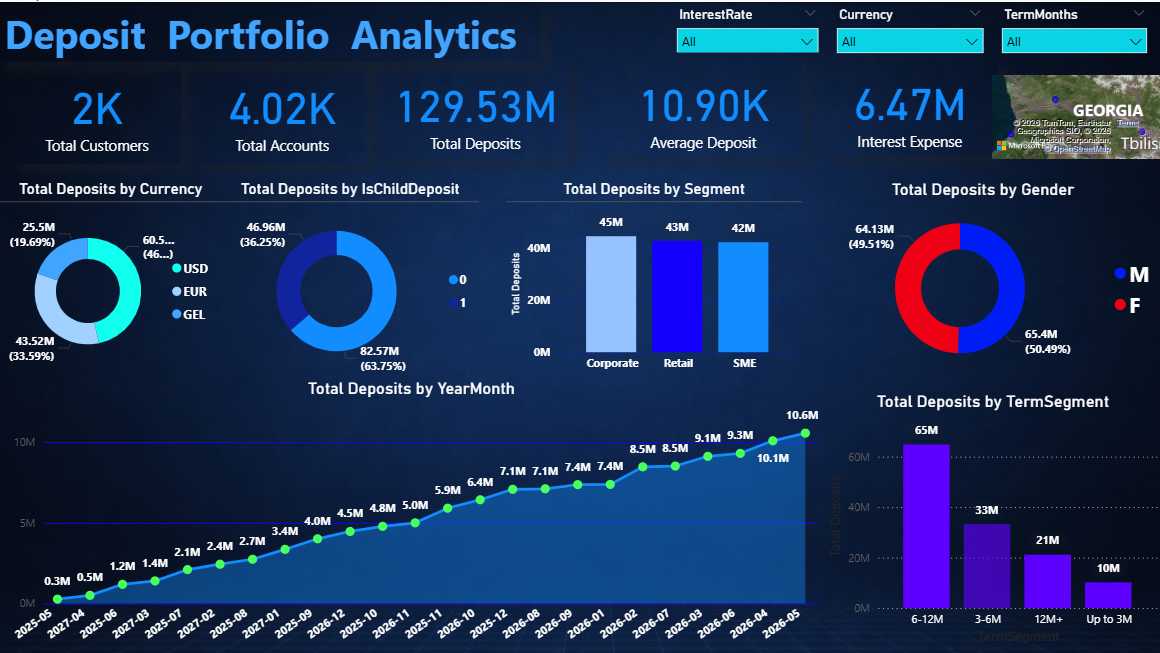

Layout of this report page (visuals, bound fields, positions):
{"tool":"powerbi","page":{"name":"Page 1","canvas":[1280,720],"ordinal":0},"visuals":[{"type":"card","fields":{"Values":["mesures.Total Customers"]},"box":[15,66.7,183.4,110],"z":0},{"type":"card","fields":{"Values":["mesures.Total Accounts"]},"box":[216.7,66.7,186.7,110],"z":1000},{"type":"card","fields":{"Values":["mesures.Total Deposits"]},"box":[421.8,66.7,201.7,105],"z":2000},{"type":"card","fields":{"Values":["mesures.Average Deposit"]},"box":[663.5,66.7,216.7,103.4],"z":3000},{"type":"donutChart","fields":{"Category":["Deposits.Currency"],"Y":["mesures.Total Deposits"]},"box":[0,195.1,243.4,218.4],"z":4000},{"type":"clusteredColumnChart","fields":{"Category":["Deposits.TermSegment"],"Y":["mesures.Total Deposits"]},"box":[904.3,428.1,371.9,281.3],"z":5000},{"type":"donutChart","fields":{"Category":["Customers.IsChildDeposit"],"Y":["mesures.Total Deposits"]},"box":[243.4,195.1,283.4,218.4],"z":6000},{"type":"lineChart","fields":{"Category":["Deposits.YearMonth"],"Y":["mesures.Total Deposits"]},"box":[0,413.4,903.6,306.7],"z":7000},{"type":"donutChart","fields":{"Category":["Customers.Gender"],"Y":["mesures.Total Deposits"]},"box":[881.9,195.1,393.4,218.4],"z":8000},{"type":"clusteredColumnChart","fields":{"Category":["Customers.Segment"],"Y":["mesures.Total Deposits"]},"box":[555.1,195.1,325.1,218.4],"z":9000},{"type":"card","fields":{"Values":["mesures.Interest Expense"]},"box":[903.6,66.7,191.7,101.7],"z":10000},{"type":"map","fields":{"Category":["Customers.City"],"Size":["mesures.Total Deposits"]},"box":[1084.1,75.5,196.2,101.5],"z":11000},{"type":"slicer","fields":{"Values":["Deposits.TermMonths"]},"box":[1089.5,0,179.8,60.4],"z":12000},{"type":"slicer","fields":{"Values":["Deposits.Currency"]},"box":[908.4,0,181.1,71.4],"z":13000},{"type":"slicer","fields":{"Values":["Deposits.InterestRate"]},"box":[732.8,0,175.6,54.9],"z":14000},{"type":"textbox","box":[0,0,593.5,66.7],"z":15000}]}

Visuals, with their boxes in screenshot pixels (x1, y1, x2, y2), scaled from the page's 1280x720 canvas onto the 1160x653 screenshot:
card - mesures.Total Customers: (14, 60, 180, 160)
card - mesures.Total Accounts: (196, 60, 366, 160)
card - mesures.Total Deposits: (382, 60, 565, 156)
card - mesures.Average Deposit: (601, 60, 798, 154)
donutChart - Deposits.Currency x mesures.Total Deposits: (0, 177, 221, 375)
clusteredColumnChart - Deposits.TermSegment x mesures.Total Deposits: (820, 388, 1157, 643)
donutChart - Customers.IsChildDeposit x mesures.Total Deposits: (221, 177, 477, 375)
lineChart - Deposits.YearMonth x mesures.Total Deposits: (0, 375, 819, 652)
donutChart - Customers.Gender x mesures.Total Deposits: (799, 177, 1156, 375)
clusteredColumnChart - Customers.Segment x mesures.Total Deposits: (503, 177, 798, 375)
card - mesures.Interest Expense: (819, 60, 993, 153)
map - Customers.City x mesures.Total Deposits: (982, 68, 1159, 161)
slicer - Deposits.TermMonths: (987, 0, 1150, 55)
slicer - Deposits.Currency: (823, 0, 987, 65)
slicer - Deposits.InterestRate: (664, 0, 823, 50)
textbox: (0, 0, 538, 60)
